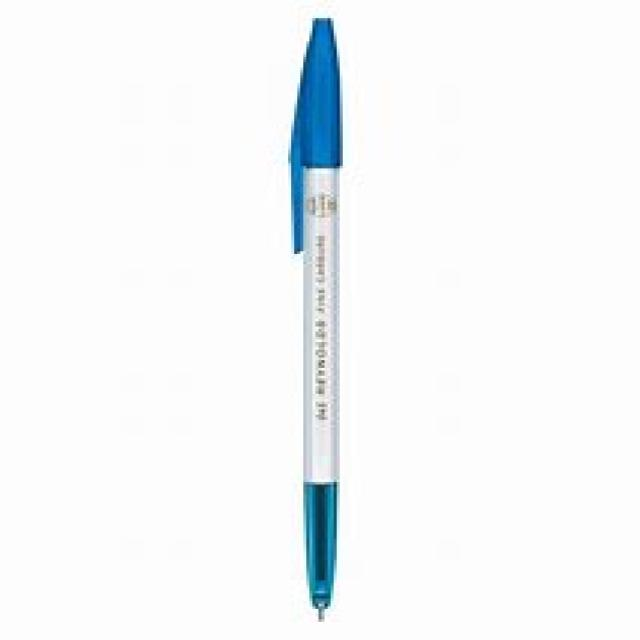pen: (284, 11, 349, 630)
